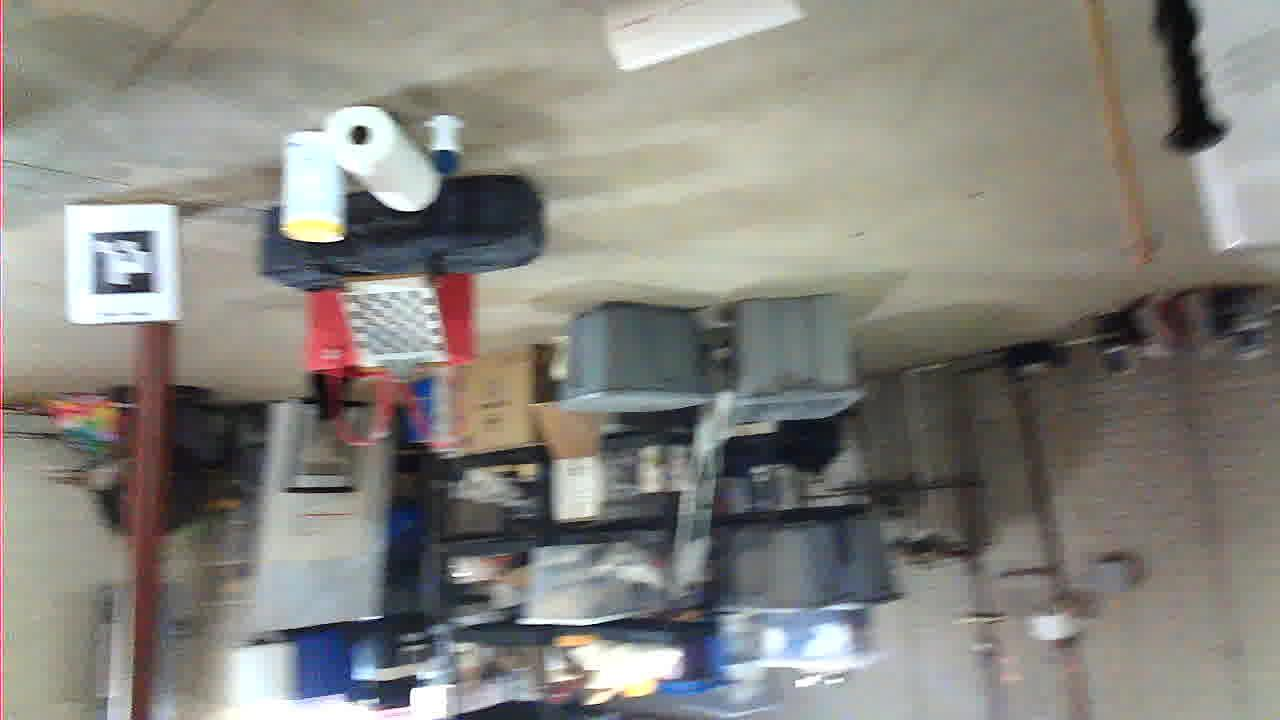coral: (472, 650, 676, 720)
